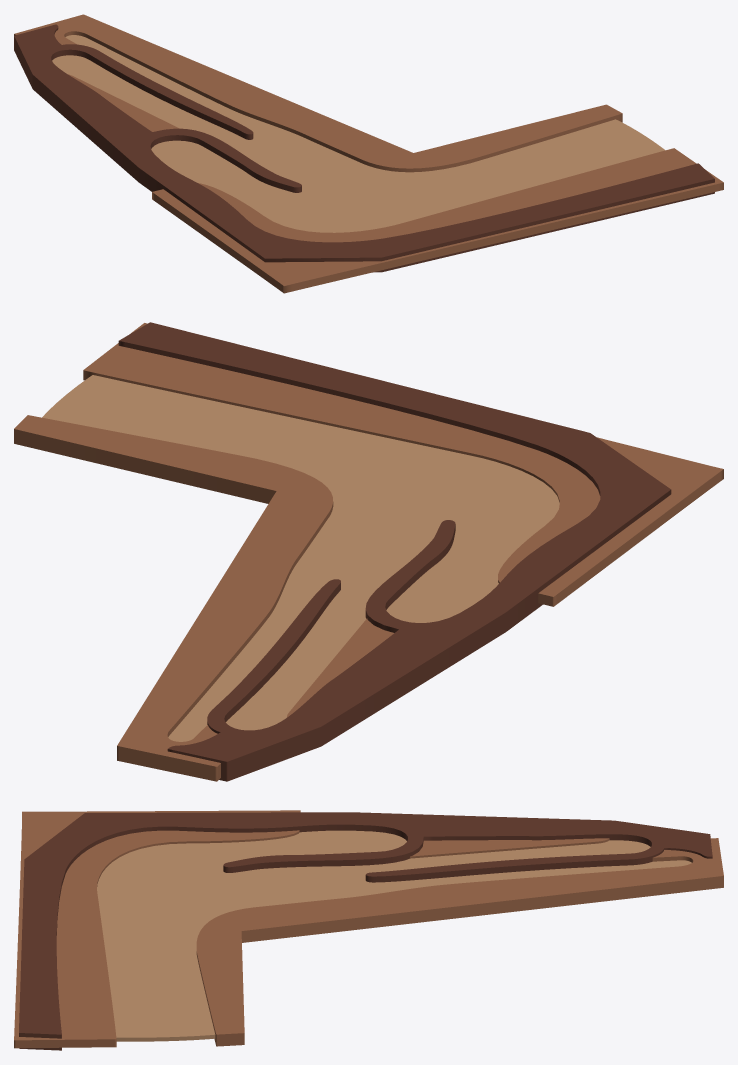
The model's file is emoji_u1faf7_1f3fd.glb.
3 renders of one model, top to bottom at view 1: azimuth 30°, elevation 25°; view 2: azimuth 150°, elevation 25°; view 3: azimuth 270°, elevation 25°, orthographic. The views are drawn at different scales.
Parts seen in each view (by area): view 1: emoji_u1faf7_1f3fd; view 2: emoji_u1faf7_1f3fd; view 3: emoji_u1faf7_1f3fd.
Part boxes in pixels (bbox=[...]): emoji_u1faf7_1f3fd: bbox=[14, 14, 723, 293]; emoji_u1faf7_1f3fd: bbox=[14, 322, 723, 781]; emoji_u1faf7_1f3fd: bbox=[14, 810, 723, 1050].
Bounding box in the file's own units: 0.0248 × 0.0008 × 0.0324.
